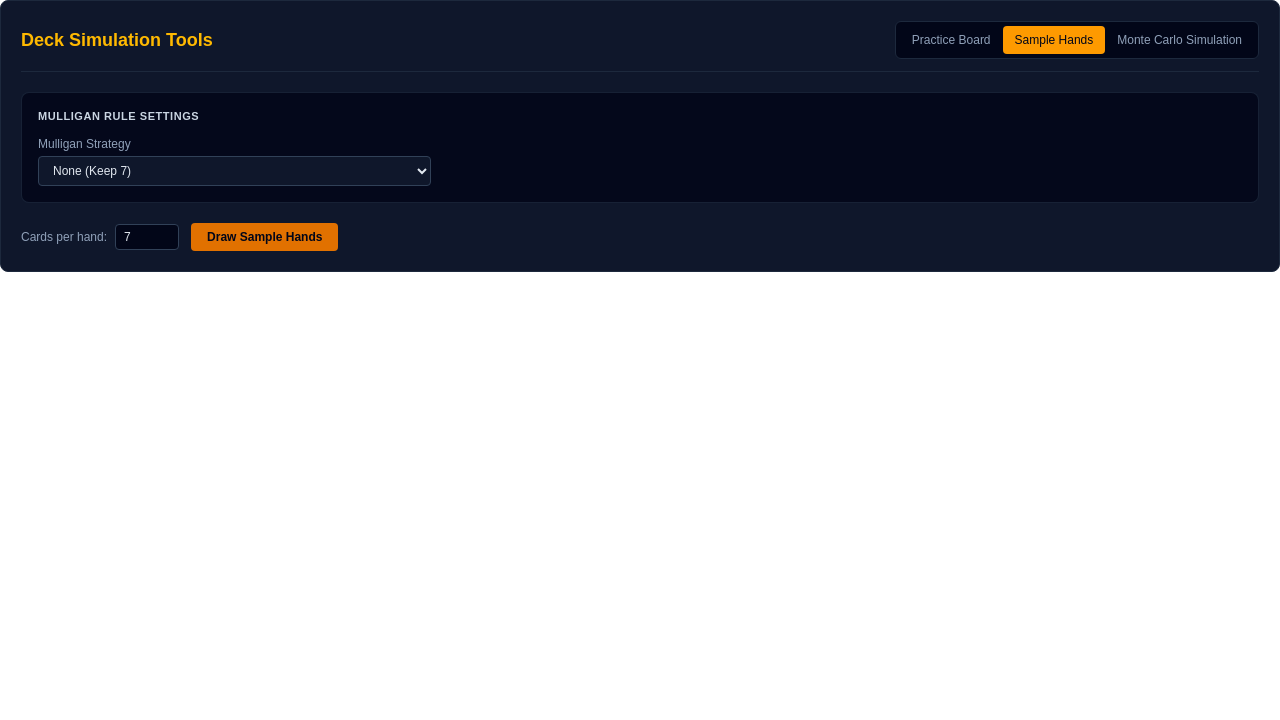
Test case: DeckSimulationPanel Component › runs Monte Carlo simulation and displays 95% margin of error banner
// Switch tab to Monte Carlo Simulation
Click the button "Monte Carlo Simulation" at (1180, 40), box [1105,26,1254,54]
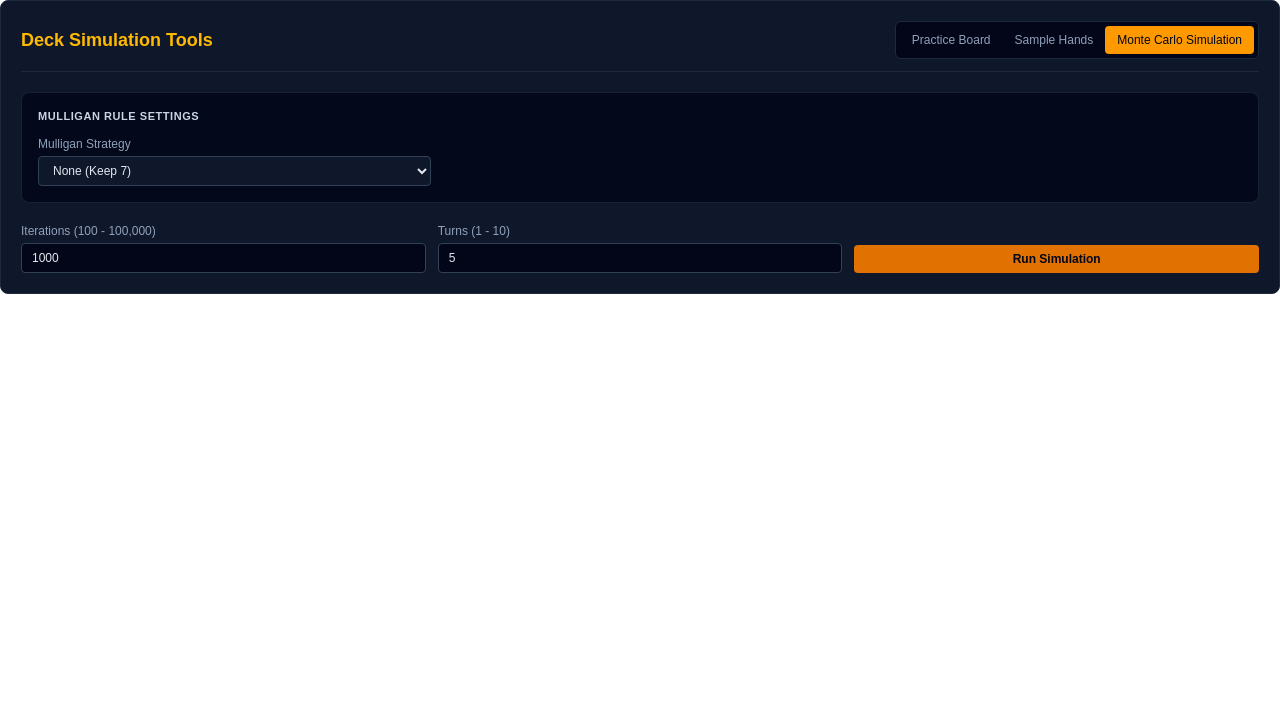
Click the button "Run Simulation" at (1057, 259), box [854,245,1259,273]
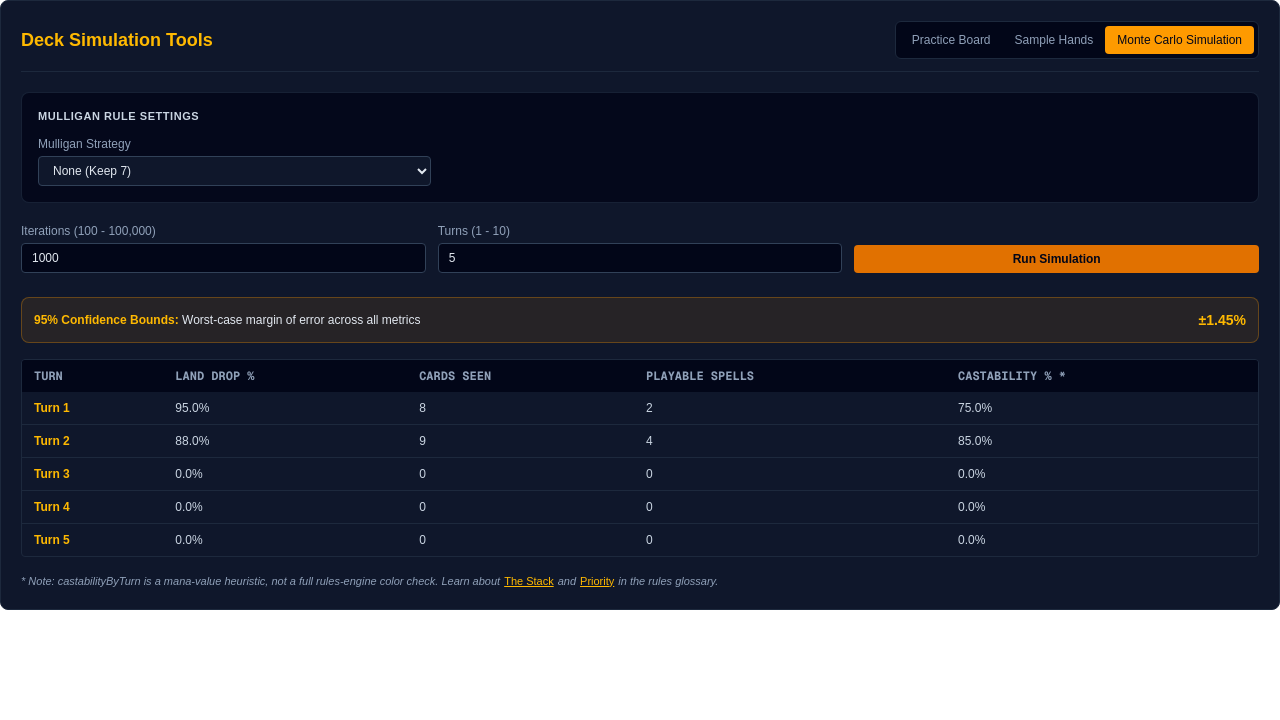
Result: the text "±1.45%" is shown at [1199,310,1246,330]
Result: the text "mana-value heuristic" is shown at [21,575,500,587]
